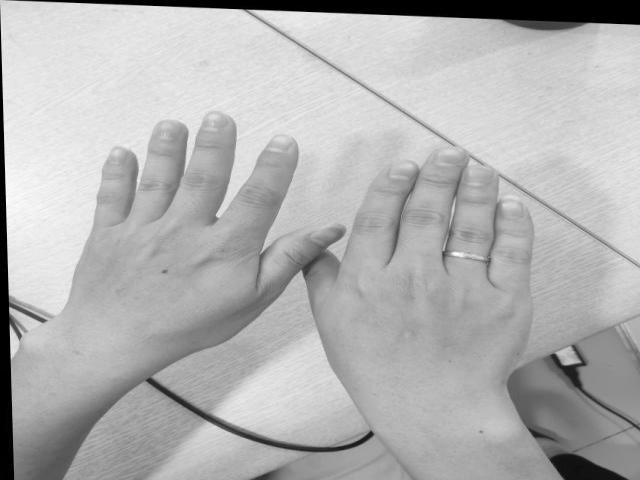not-gloved: (60, 114, 341, 376), (302, 147, 537, 413)
